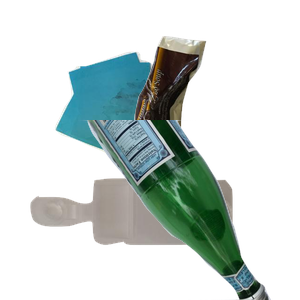glass: (75, 120, 300, 300)
paper: (52, 49, 209, 198)
plastic: (28, 176, 253, 300)
trash: (131, 34, 300, 177)
